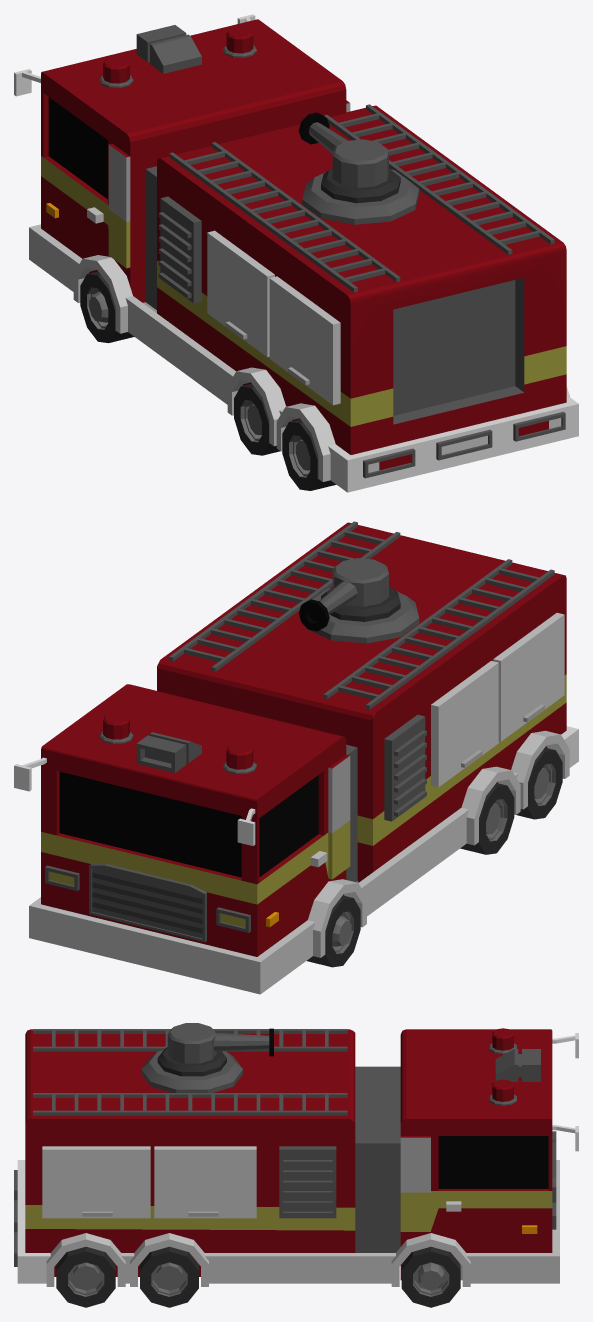
The model's file is Fire Truck.fbx.
The picture shows the model from 3 angles, top to bottom: view 1: azimuth 30°, elevation 25°; view 2: azimuth 150°, elevation 25°; view 3: azimuth 270°, elevation 25°; orthographic projection. The views are drawn at different scales.
Visible parts, largest first — view 1: Fire_Truck3, Pipe, Tire_Back_2_Left, Tire_Front_2_Right, Tire_Back_1_Left; view 2: Fire_Truck3, Pipe, Tire_Front_2_Right, Tire_Back_1_Left, Tire_Back_2_Left; view 3: Fire_Truck3, Pipe, Tire_Back_2_Right, Tire_Front_1_Right, Tire_Back_1_Right.
Part boxes in pixels (<box>): Fire_Truck3: <box>14,14,578,492</box>; Pipe: <box>298,112,400,203</box>; Tire_Back_2_Left: <box>282,419,336,490</box>; Tire_Front_2_Right: <box>80,271,134,343</box>; Tire_Back_1_Left: <box>234,383,279,455</box>; Fire_Truck3: <box>14,521,578,994</box>; Pipe: <box>298,558,400,631</box>; Tire_Front_2_Right: <box>307,895,360,967</box>; Tire_Back_1_Left: <box>460,783,514,854</box>; Tire_Back_2_Left: <box>516,747,562,819</box>; Fire_Truck3: <box>14,1028,578,1286</box>; Pipe: <box>157,1023,273,1076</box>; Tire_Back_2_Right: <box>56,1246,115,1307</box>; Tire_Front_1_Right: <box>401,1246,460,1307</box>; Tire_Back_1_Right: <box>140,1246,198,1307</box>.
Size of the model in its own units: 408 by 415 by 938.
